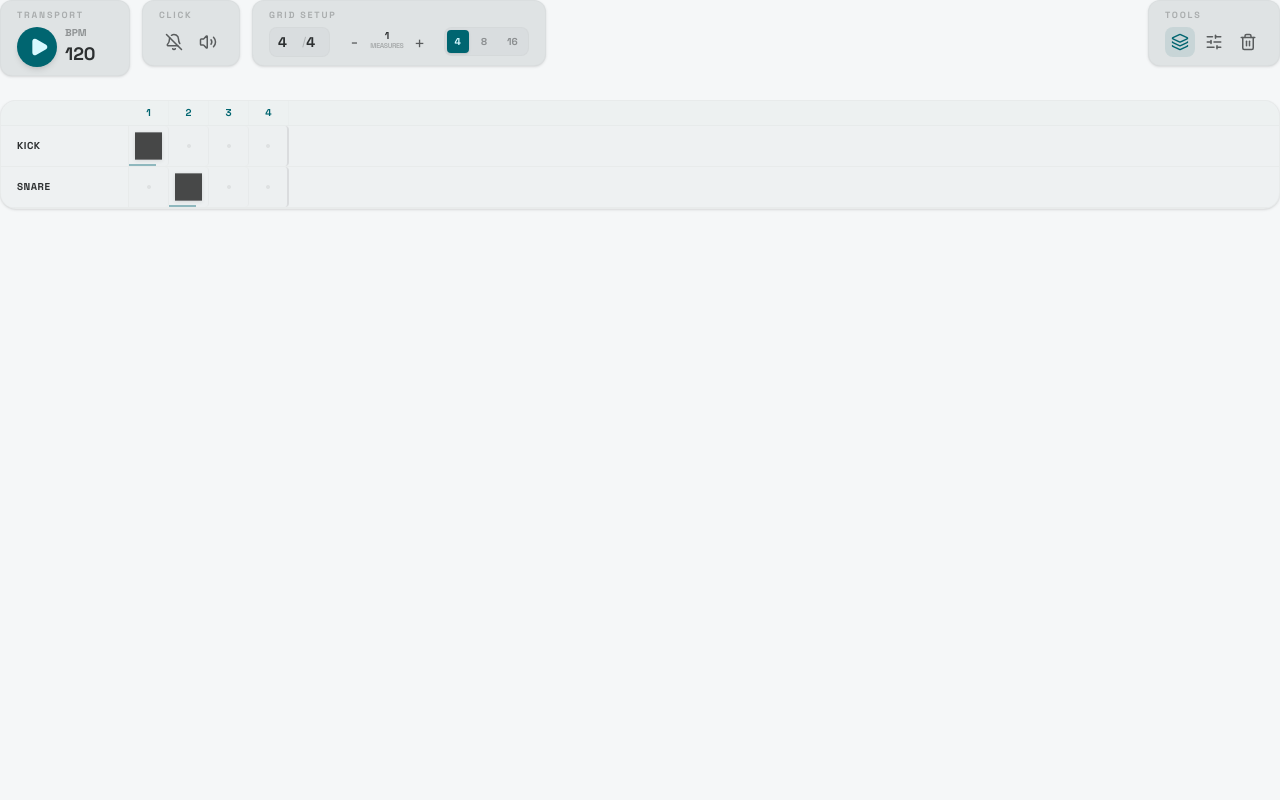
GrooveGridEditor › adds an instrument
Click the button titled "Edit Instruments" at (1214, 42), box [1199,26,1229,56]
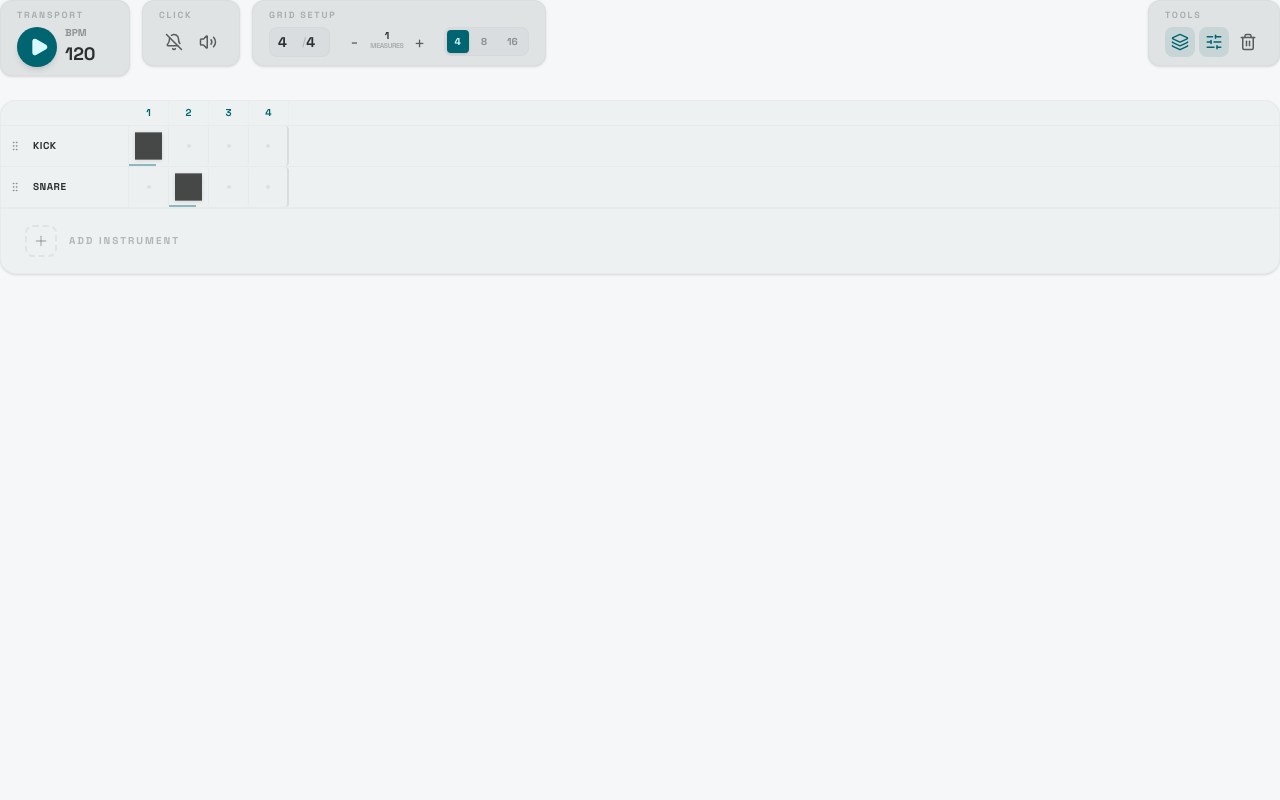
Click the button with test id "add-instrument-button" at (41, 240), box [1,208,1279,272]
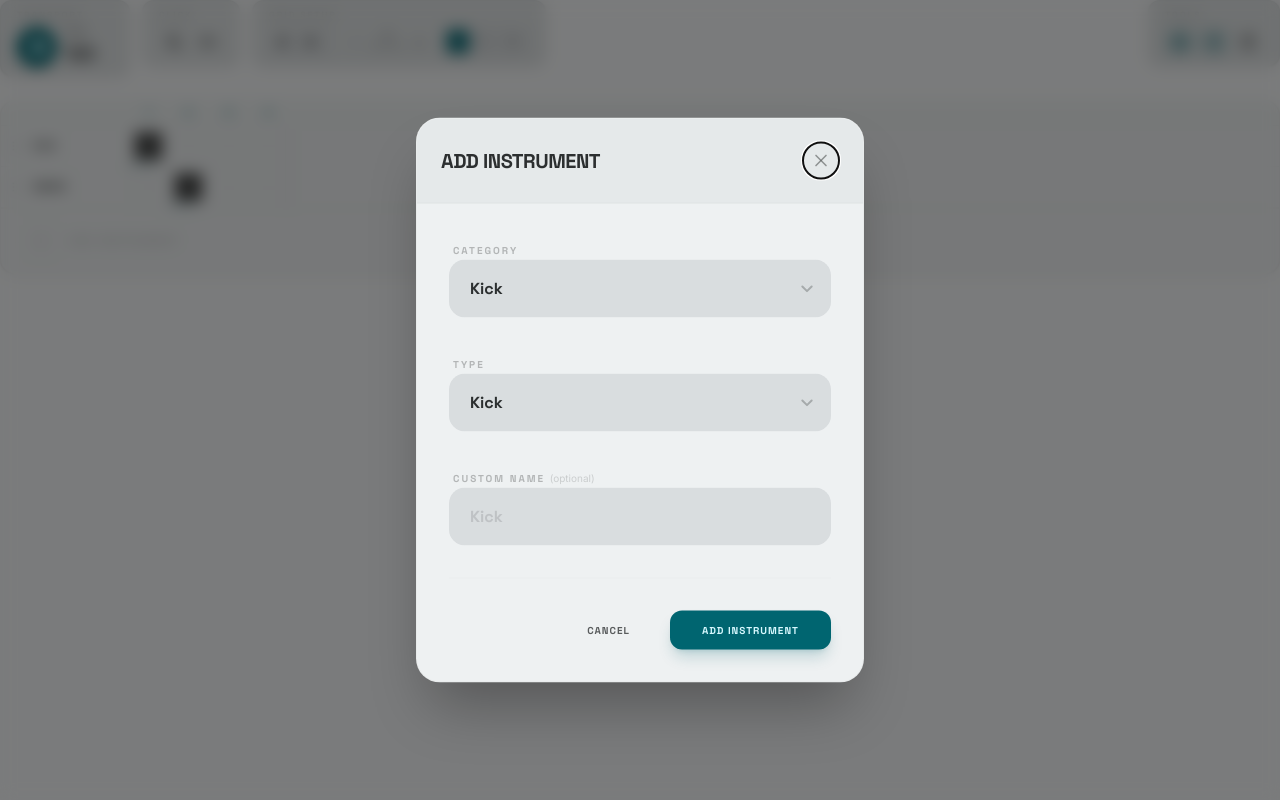
Check: the dialog is shown, box [416,118,864,682]
Select "Tom" in the dropdown labelled "Category" at (640, 288), box [449,260,831,318]
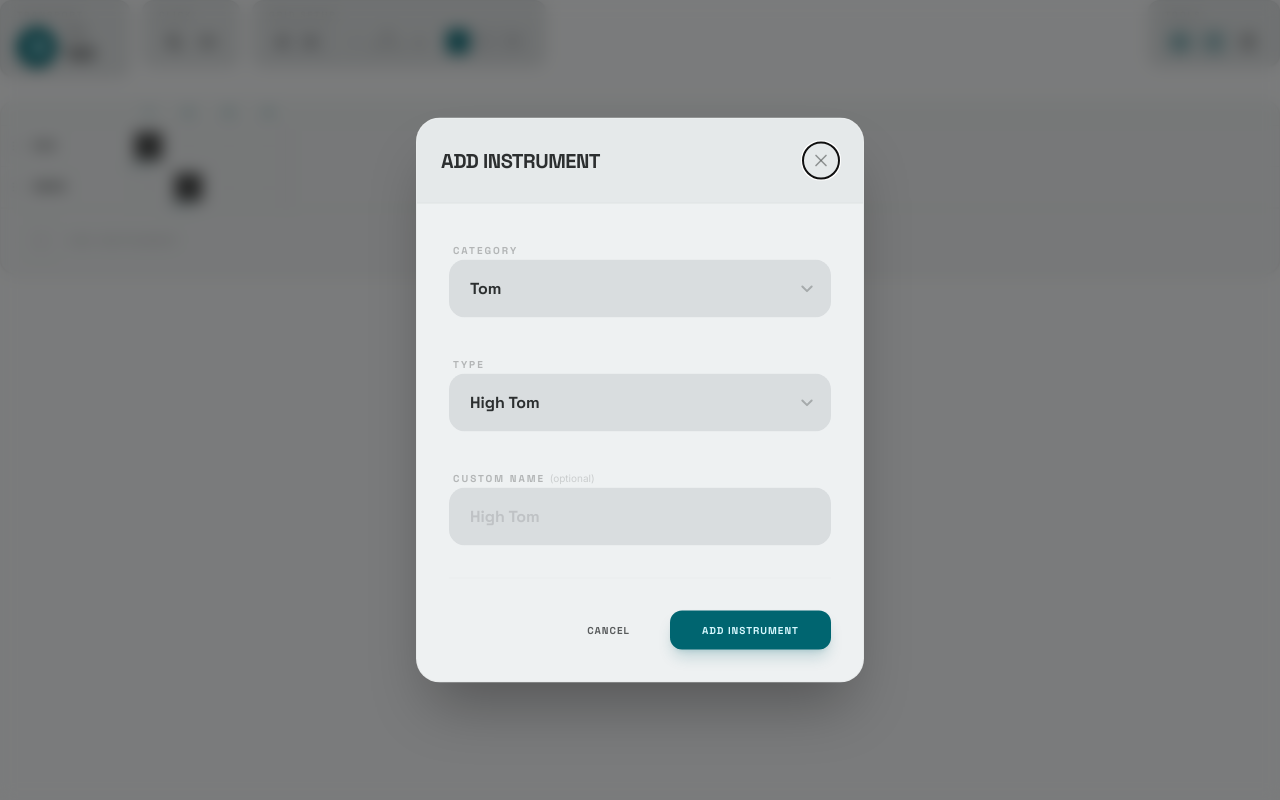
Click the button "Add Instrument" at (750, 630), box [670,610,831,650]
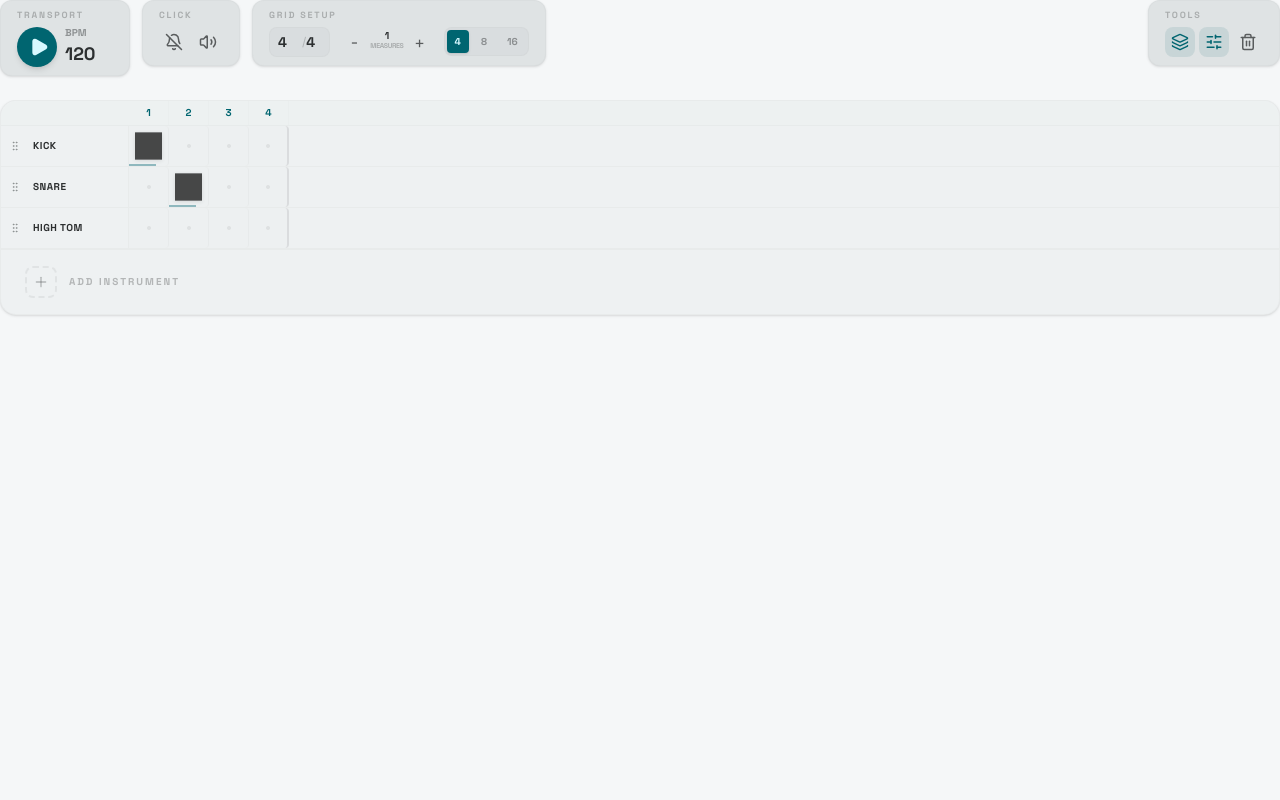
Check: the text "High Tom" is shown, box [33,220,83,235]
